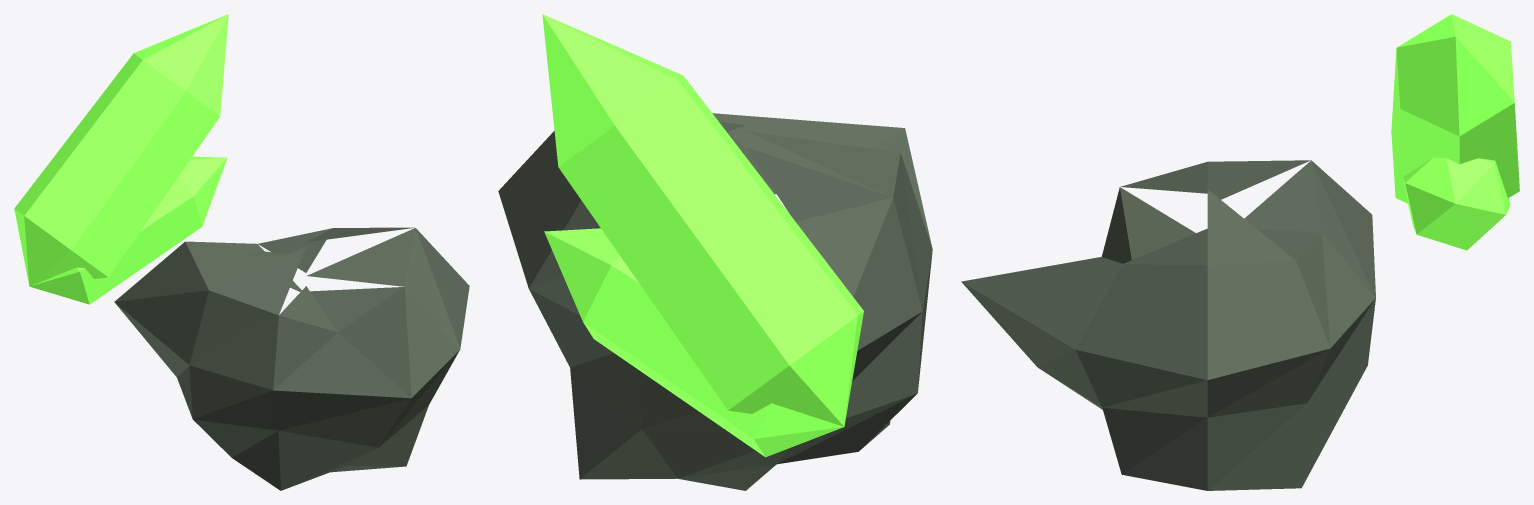
File: uranium_crystal_small.glb
3 views of the same model, side by side, from view 1: azimuth 30°, elevation 25°; view 2: azimuth 150°, elevation 25°; view 3: azimuth 270°, elevation 25° (orthographic). The views are drawn at different scales.
Visible parts, largest first — view 1: body/iron, uranium_secondary_spikes; view 2: uranium_secondary_spikes, body/iron; view 3: body/iron, uranium_secondary_spikes.
Part boxes in pixels (x1,y1,x2,y2): body/iron: (114,227,469,490); uranium_secondary_spikes: (14,14,228,304); uranium_secondary_spikes: (542,14,863,457); body/iron: (498,113,932,490); body/iron: (961,160,1375,490); uranium_secondary_spikes: (1391,14,1519,250).
Bounding box in the file's own units: 1.03 × 1.11 × 1.25.
